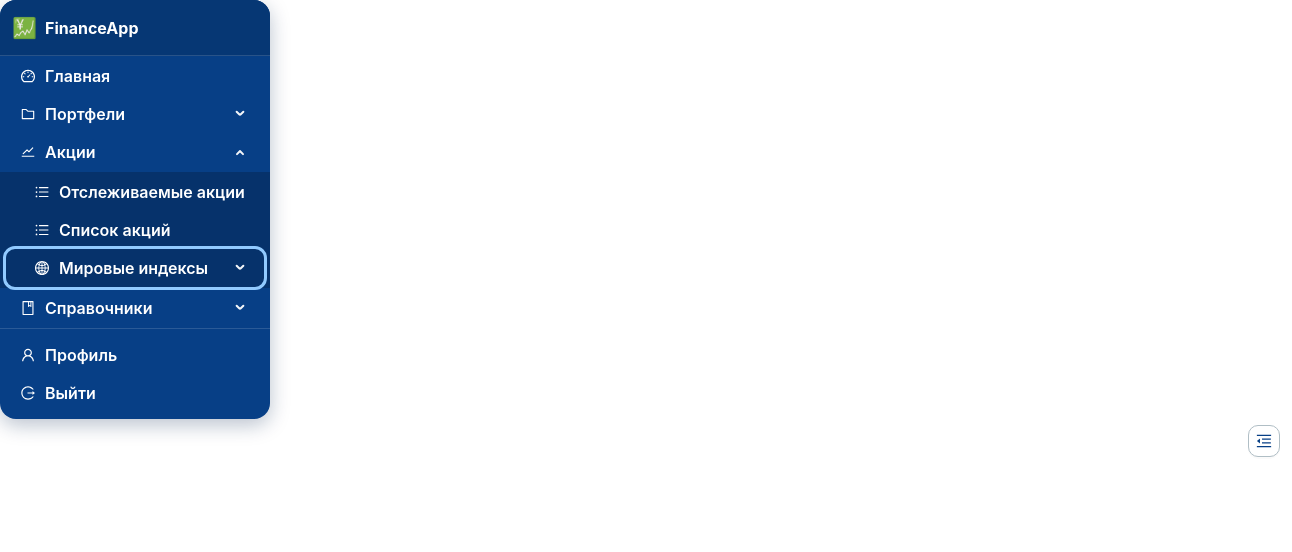
Scenario: AppSidebar real DOM interaction — Market Indices toggle › 10. Keyboard interaction: Ant Design submenu titles respond to mouse/pointer but not to keyboard Enter/Space in jsdom
// No uncaught exception must be thrown
Press Enter
// Pointer-based click does work and is the primary tested interaction
Click the menu item "Мировые индексы".
click(122, 268)  # box 35,258 -> 208,278
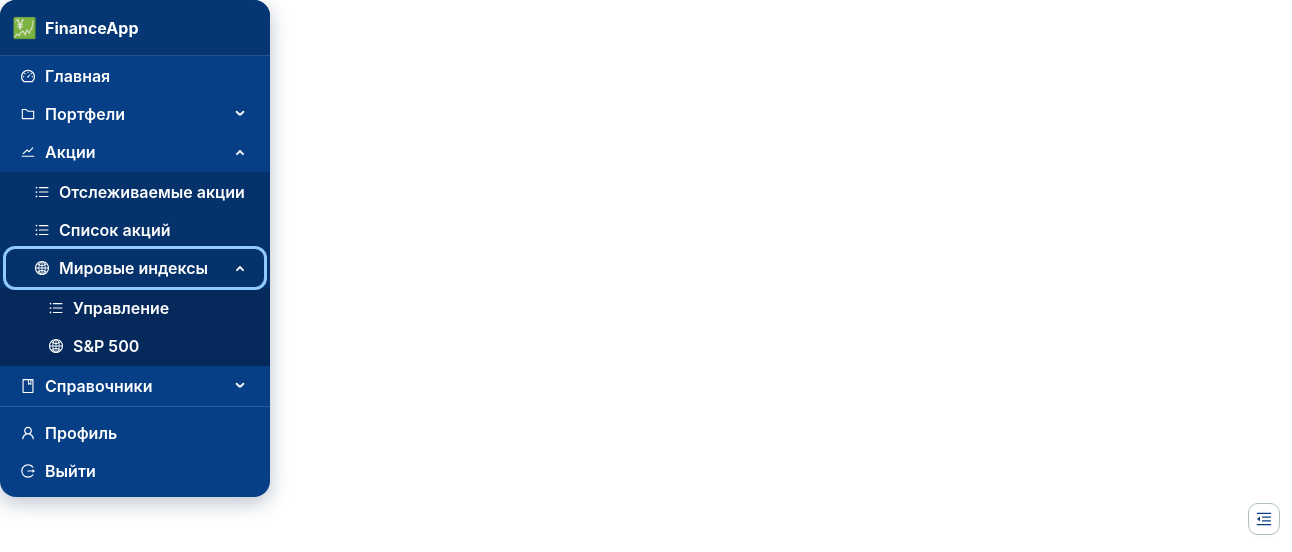
Expected: the text "Управление" is shown, 73,298 -> 169,318
